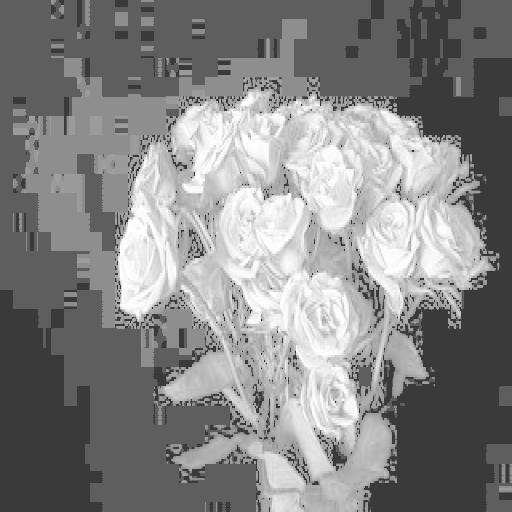rose: (421, 188, 488, 295), (283, 273, 360, 360), (120, 205, 181, 312), (360, 193, 421, 295), (253, 193, 315, 273), (298, 148, 356, 230), (307, 360, 362, 442), (219, 188, 264, 278), (234, 111, 284, 184)
